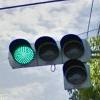traffic lights: (7, 33, 92, 65), (62, 60, 91, 88)
